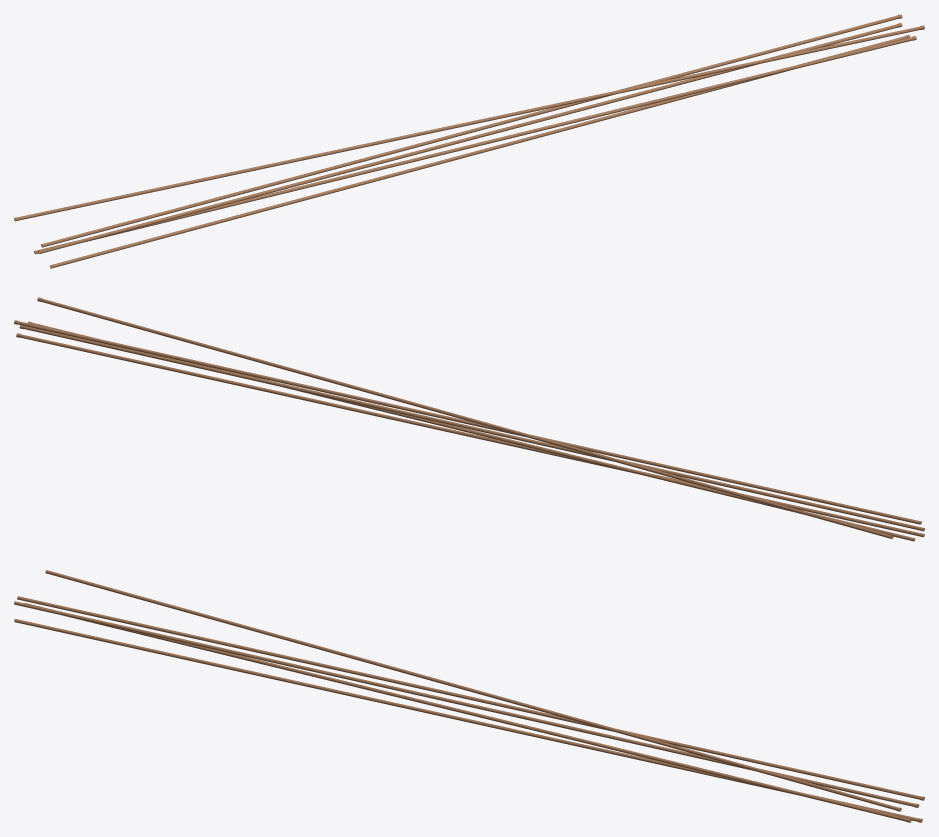
File: HID-AGF-001_anim.glb
3 renders of one model, top to bottom at view 1: azimuth 30°, elevation 25°; view 2: azimuth 150°, elevation 25°; view 3: azimuth 330°, elevation 25°, orthographic.
Parts seen in each view (by area): view 1: HID-AGF-001_anim4, HID-AGF-001_anim3, HID-AGF-001_anim2, HID-AGF-001_anim1, HID-AGF-001_anim0; view 2: HID-AGF-001_anim4, HID-AGF-001_anim3, HID-AGF-001_anim2, HID-AGF-001_anim0, HID-AGF-001_anim1; view 3: HID-AGF-001_anim4, HID-AGF-001_anim3, HID-AGF-001_anim2, HID-AGF-001_anim1, HID-AGF-001_anim0.
Boxes of the visible parts, x1=… form: HID-AGF-001_anim4: x1=14, y1=25, x2=924, y2=221; HID-AGF-001_anim3: x1=41, y1=14, x2=902, y2=247; HID-AGF-001_anim2: x1=38, y1=23, x2=902, y2=253; HID-AGF-001_anim1: x1=34, y1=36, x2=916, y2=254; HID-AGF-001_anim0: x1=50, y1=35, x2=910, y2=268; HID-AGF-001_anim4: x1=37, y1=297, x2=893, y2=539; HID-AGF-001_anim3: x1=14, y1=320, x2=921, y2=524; HID-AGF-001_anim2: x1=19, y1=325, x2=924, y2=531; HID-AGF-001_anim0: x1=16, y1=333, x2=924, y2=537; HID-AGF-001_anim1: x1=27, y1=321, x2=915, y2=541; HID-AGF-001_anim4: x1=45, y1=570, x2=901, y2=811; HID-AGF-001_anim3: x1=17, y1=596, x2=924, y2=800; HID-AGF-001_anim2: x1=14, y1=601, x2=919, y2=807; HID-AGF-001_anim1: x1=24, y1=603, x2=911, y2=822; HID-AGF-001_anim0: x1=14, y1=619, x2=922, y2=822.
Size of the model in its own units: 6.04 by 0.1755 by 0.4166.
